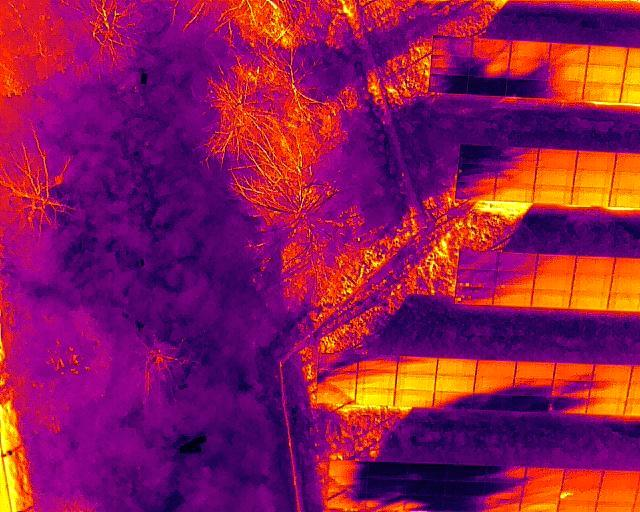Cell: (494, 271, 534, 289)
Cell-Multi: (458, 269, 495, 288), (455, 288, 493, 305)
No-Anomaly: (589, 46, 628, 66), (510, 40, 550, 59), (585, 65, 625, 83), (492, 289, 532, 307), (531, 290, 571, 308), (574, 257, 614, 275), (534, 273, 574, 291), (592, 365, 631, 383), (535, 169, 574, 187), (536, 255, 575, 273), (574, 170, 612, 188), (538, 150, 576, 168), (357, 373, 397, 390), (586, 398, 626, 415), (582, 84, 622, 101), (435, 360, 477, 376), (577, 152, 614, 170), (570, 291, 608, 308), (514, 362, 557, 377), (597, 486, 637, 502), (572, 188, 609, 205), (396, 376, 435, 392), (494, 186, 533, 202), (573, 275, 611, 291), (356, 390, 396, 405), (434, 377, 474, 392), (476, 362, 516, 377), (607, 292, 640, 310), (394, 392, 433, 407), (522, 483, 561, 498), (535, 188, 571, 204), (602, 471, 640, 486), (564, 469, 601, 484), (525, 468, 564, 482), (521, 498, 559, 511)
Shadowing: (509, 59, 550, 80), (431, 55, 470, 76), (461, 144, 500, 165), (549, 44, 588, 64), (470, 57, 509, 77), (467, 77, 508, 96), (507, 79, 548, 98), (454, 181, 494, 200), (434, 36, 471, 56), (456, 165, 497, 183), (471, 38, 509, 57), (460, 250, 498, 269), (501, 148, 537, 168), (473, 378, 515, 395), (396, 358, 438, 375), (445, 464, 486, 481), (513, 378, 554, 395), (429, 75, 467, 93), (498, 253, 536, 271), (358, 355, 398, 372), (498, 168, 535, 186), (367, 463, 406, 480), (366, 480, 407, 496), (472, 395, 513, 411), (317, 355, 358, 371), (546, 82, 582, 100), (548, 64, 584, 82), (408, 463, 446, 480), (432, 392, 472, 408), (589, 381, 629, 397), (554, 365, 594, 381), (487, 466, 526, 482), (551, 382, 590, 398), (318, 372, 357, 388), (549, 399, 588, 415), (329, 477, 367, 493), (512, 396, 550, 412), (445, 497, 485, 512), (407, 481, 444, 497), (317, 389, 356, 404), (367, 496, 408, 510), (445, 483, 486, 497), (328, 463, 367, 477), (484, 498, 522, 512), (485, 483, 523, 497), (328, 494, 366, 507), (408, 497, 443, 510)
Unclassified: (560, 485, 598, 500)
